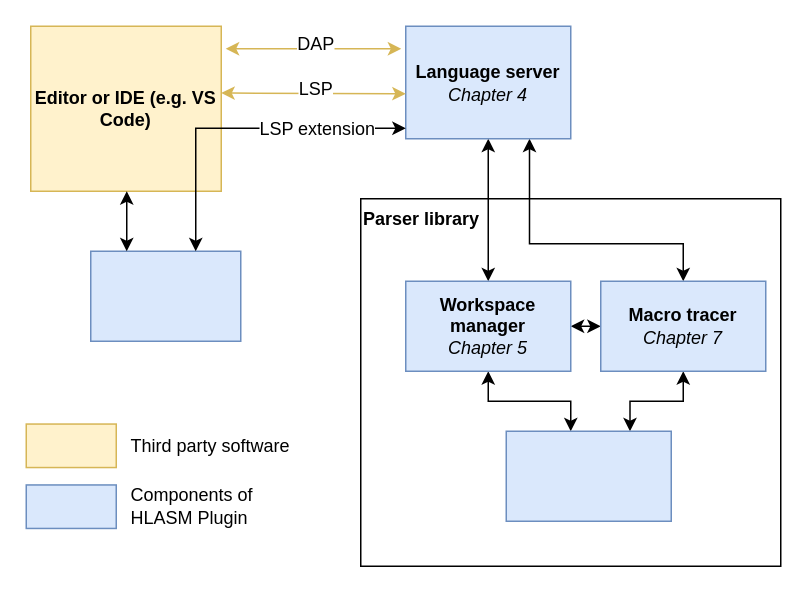
This 807x593 diagram has some shape labels left out. The shapes that lost their labels are listed below. From the top down, each one's centre as x and y in pixels, then its label:
At (x=165, y=295): "HLASM Plugin extension Chapter 8".
At (x=588, y=475): "Analyzer Chapter 6".
